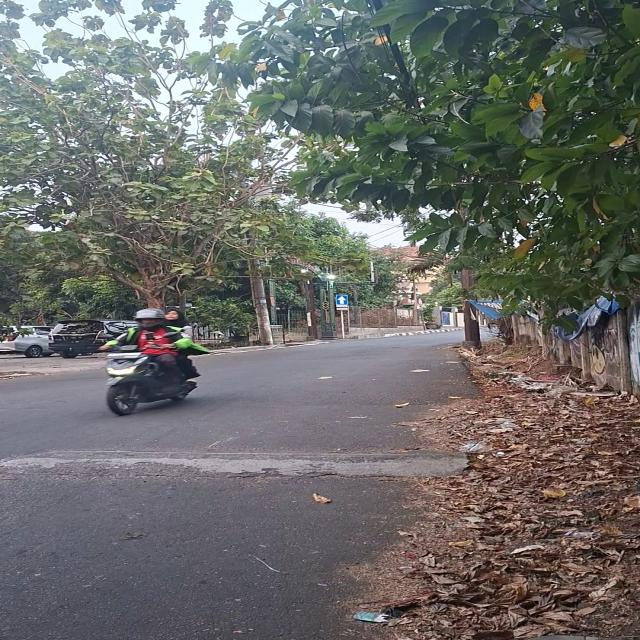WithHelmet: (96, 308, 208, 395)
